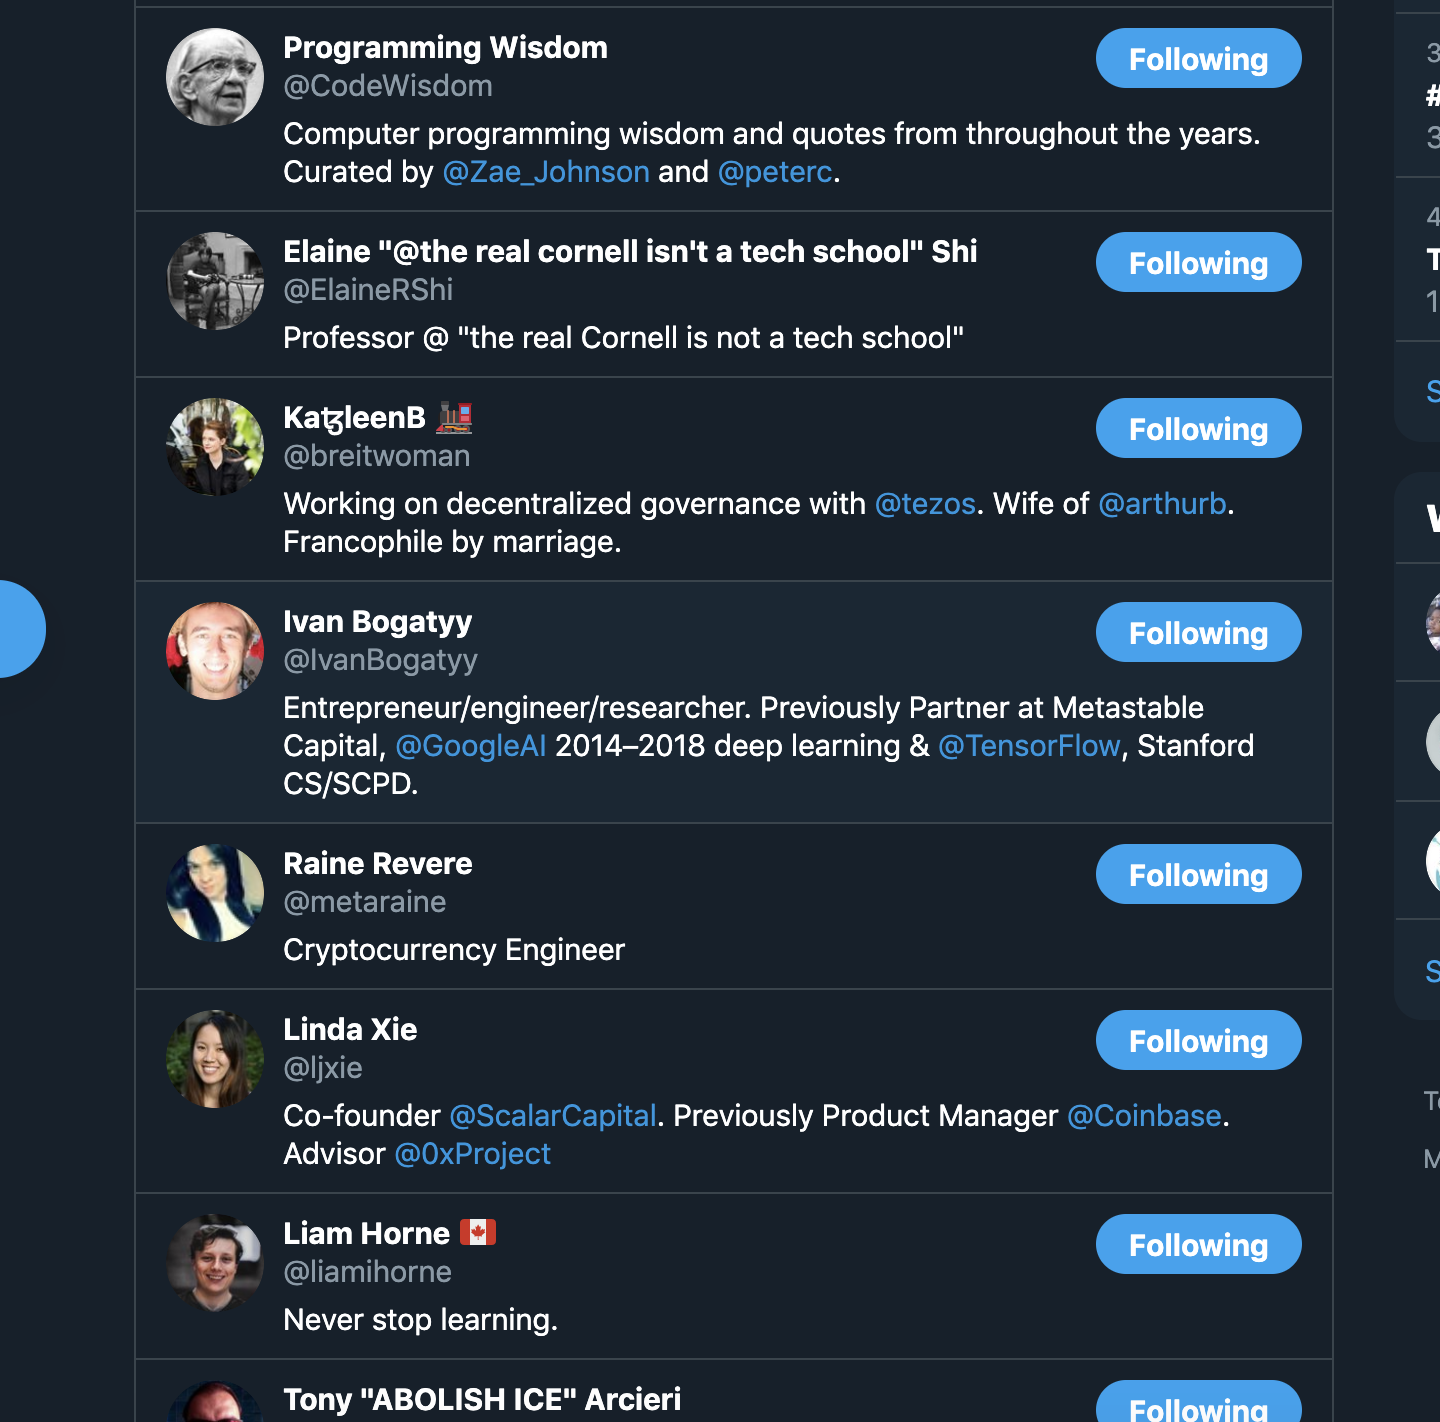following button: (1092, 833, 1302, 917), (1092, 221, 1305, 300), (1090, 1003, 1305, 1078), (1090, 1208, 1310, 1281), (1091, 395, 1307, 466), (1090, 595, 1305, 665), (1096, 29, 1305, 98), (1069, 1375, 1308, 1422)
